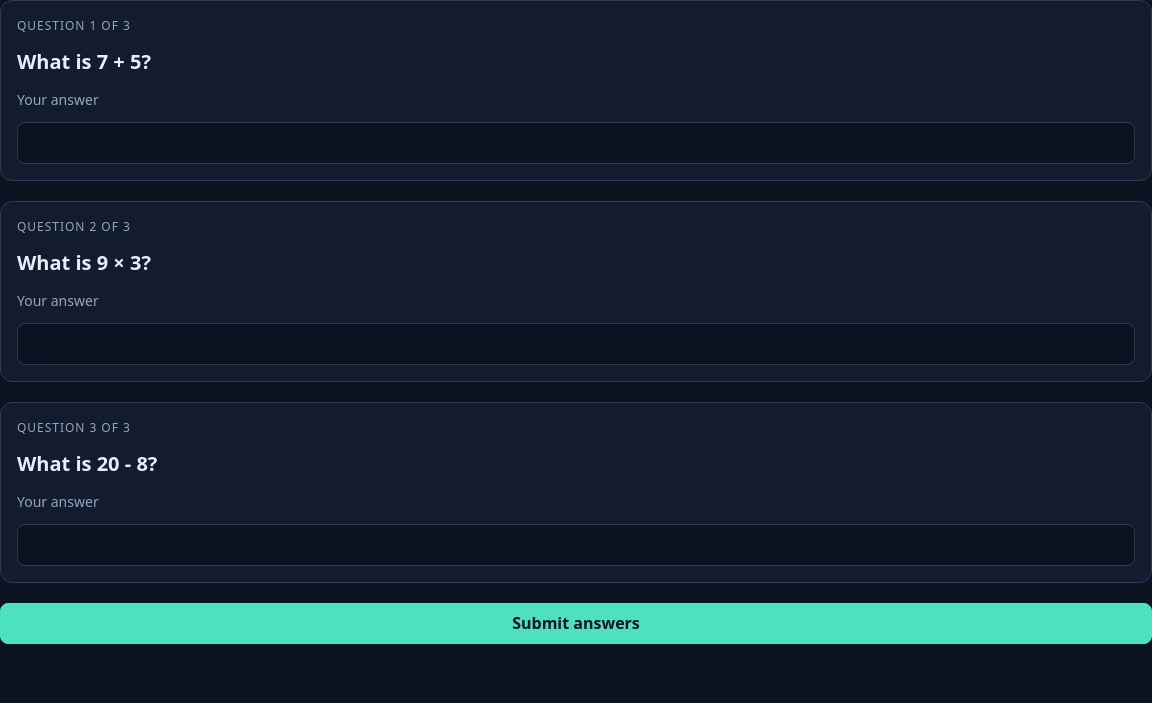
QuestionForm › blocks submit when answers are missing
Expected: the heading "What is 7 + 5?" is shown, [17,47,151,77]
Click the button "Submit answers" at (576, 624), box [0,603,1151,644]
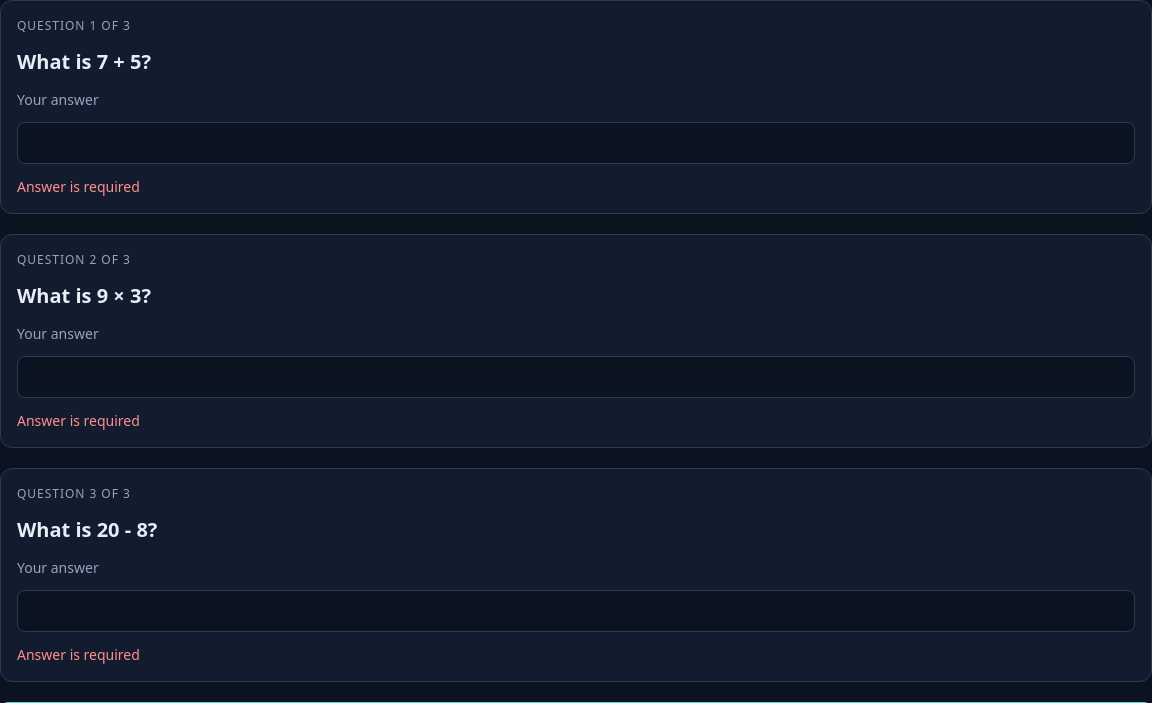
Now the number of messages is 3, box [17,176,140,197]; [17,410,140,431]; [17,644,140,665]
